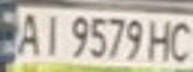5: (87, 12, 109, 60)
7: (103, 15, 127, 61)
9: (121, 15, 148, 62), (63, 11, 90, 58)
A: (12, 8, 45, 56)
C: (166, 17, 193, 63)
H: (145, 16, 178, 63)
I: (36, 10, 66, 56)
